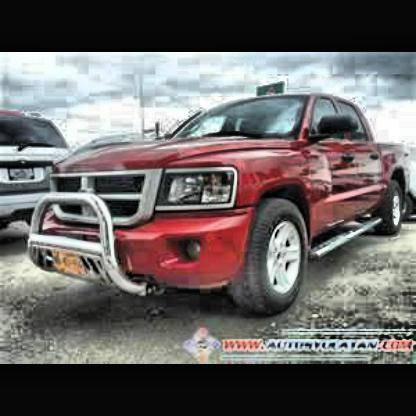Dodge Dakota Crew Cab 2010: (32, 97, 413, 313)
